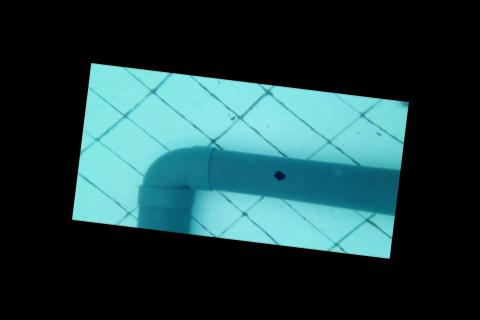kebocoran: (270, 168, 287, 182)
